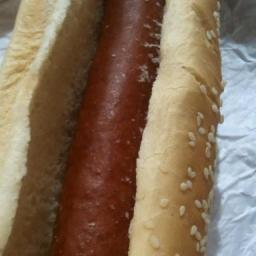hotdog: (44, 48, 146, 254), (100, 1, 162, 191)
